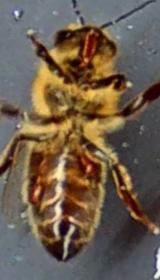varroa_mite: (74, 150, 102, 177), (24, 176, 47, 206)
